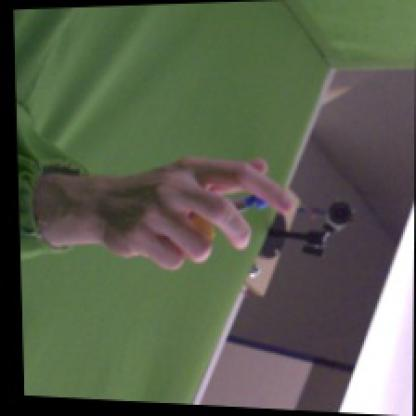Hand: (99, 156, 295, 271)
